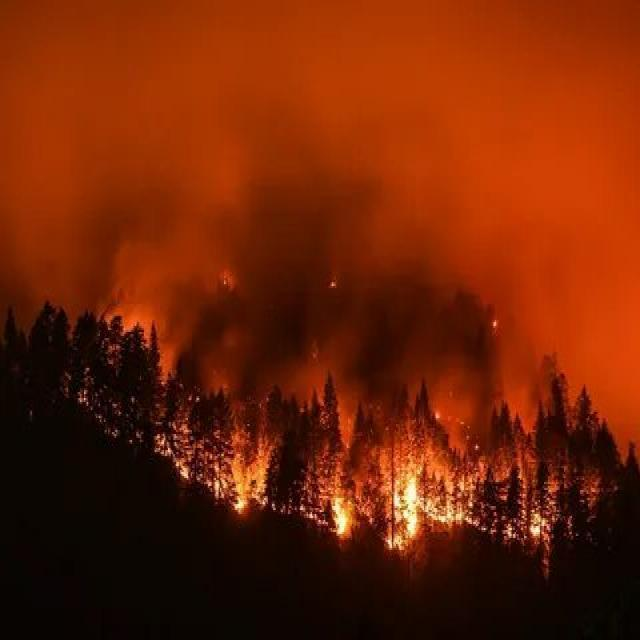Fire: (308, 431, 576, 575)
Smoke: (0, 0, 478, 377)
